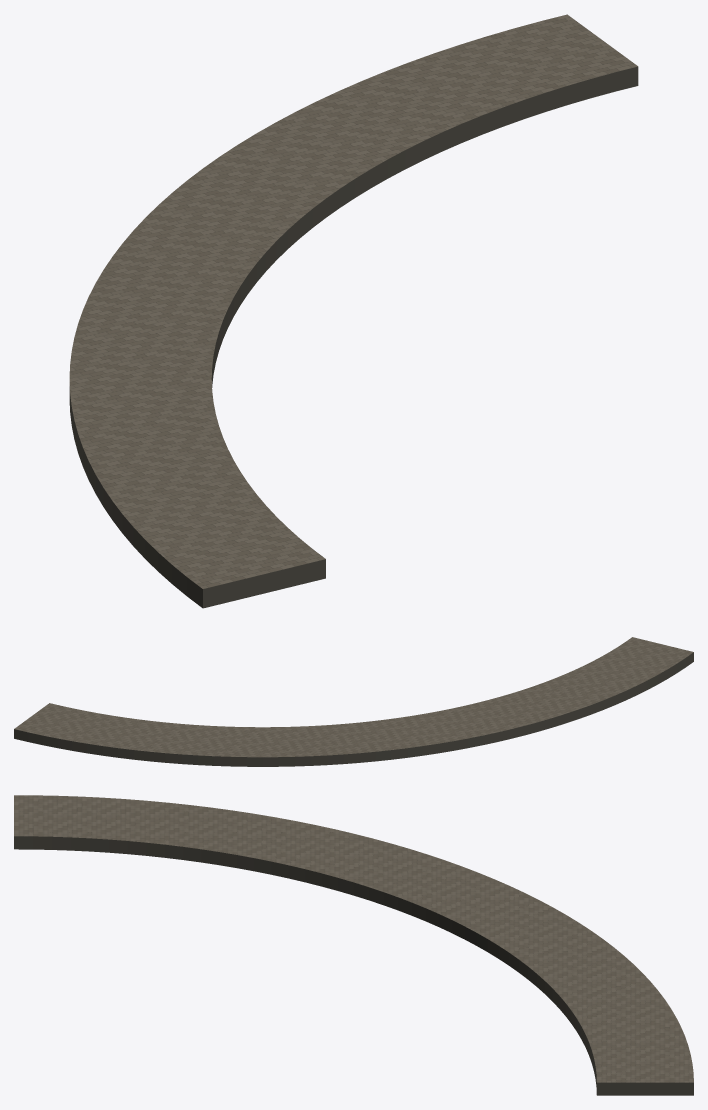
File: OAR_Sidewalk_Curve90_Outer_Left.fbx
3 views of the same model, one above another, from view 1: azimuth 30°, elevation 25°; view 2: azimuth 150°, elevation 25°; view 3: azimuth 270°, elevation 25° (orthographic). The views are drawn at different scales.
Visible parts, largest first — view 1: Body; view 2: Body; view 3: Body.
Part boxes in pixels (x1,y1,x2,y2): Body: (69, 14, 638, 608); Body: (14, 637, 693, 766); Body: (14, 795, 693, 1095).
Bounding box in the file's own units: 14 × 0.3 × 14.
